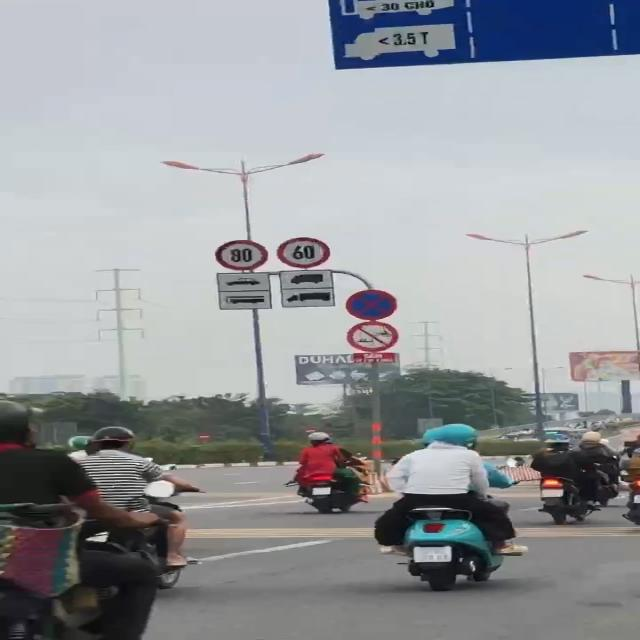Bien bao cam dung xe va do xe: (345, 289, 397, 320)
Bien bao toc do toi da cho phep: (213, 238, 273, 270), (274, 237, 330, 269)
